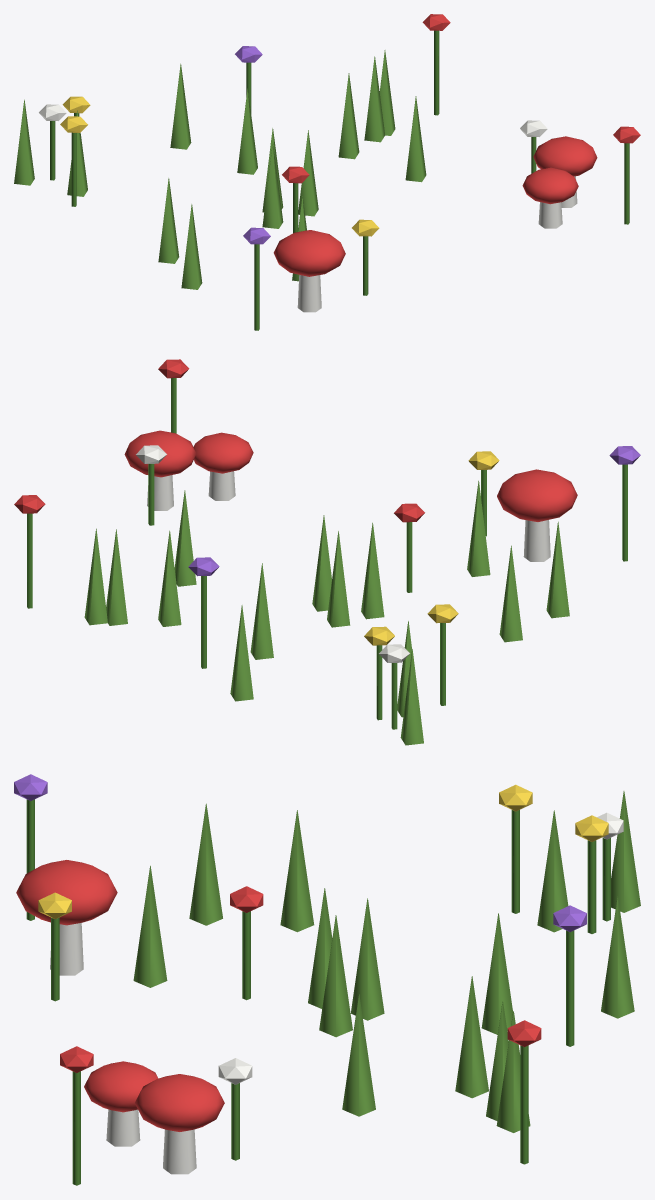
The model's file is flowers.glb.
3 renders of one model, top to bottom at view 1: azimuth 30°, elevation 25°; view 2: azimuth 150°, elevation 25°; view 3: azimuth 270°, elevation 25°, orthographic. The views are drawn at different scales.
Visible parts, largest first — view 1: flowers; view 2: flowers; view 3: flowers.
Part boxes in pixels (x1,y1,x2,y2): flowers: [14, 14, 640, 330]; flowers: [14, 359, 640, 745]; flowers: [14, 774, 640, 1185].
Bounding box in the file's own units: 2.46 × 0.5703 × 2.22.
